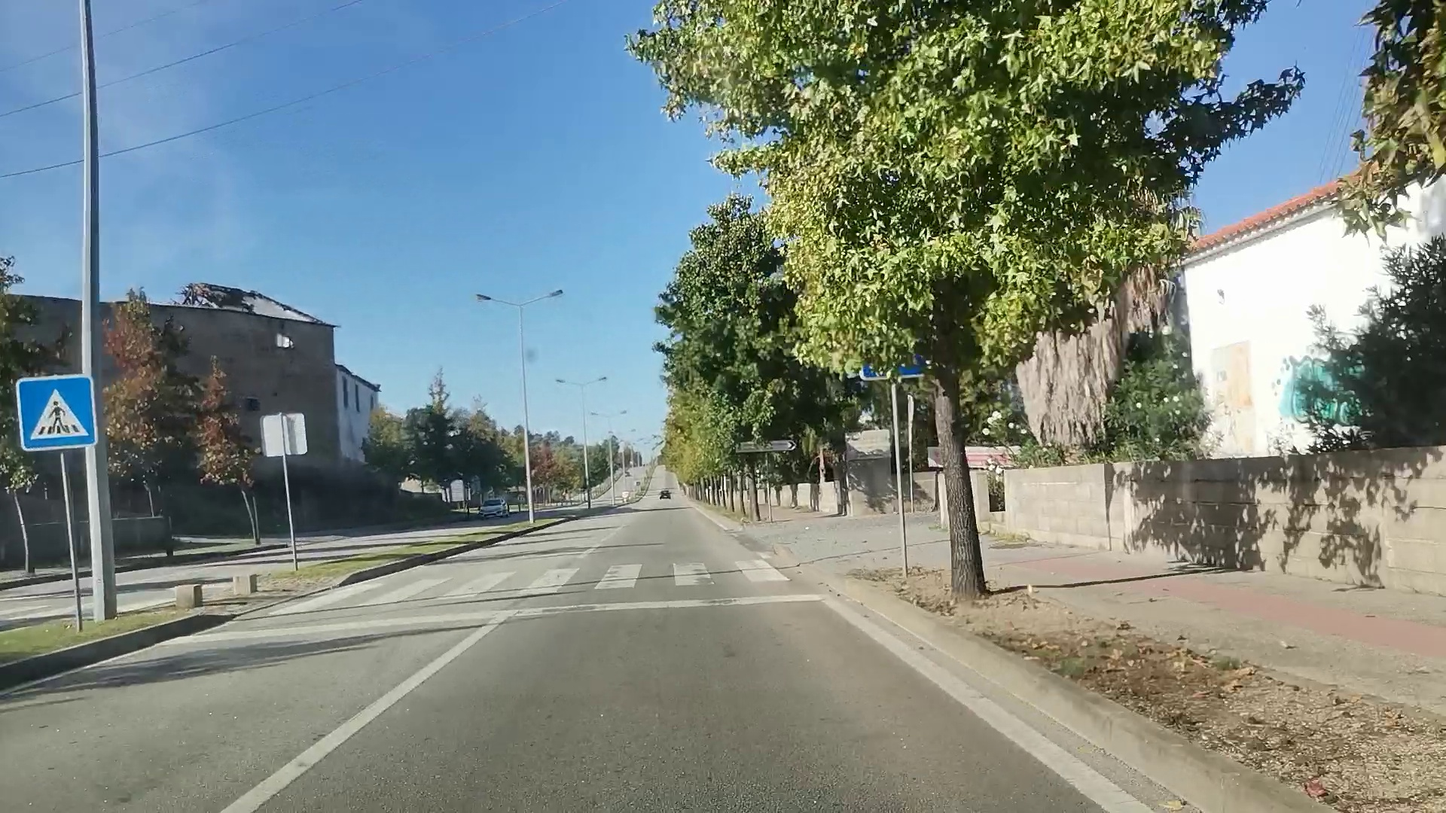Stairs: (317, 556, 803, 623)
